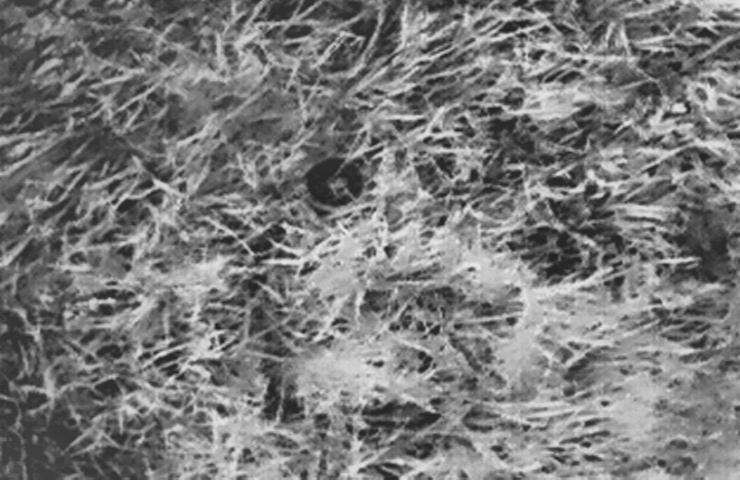landmines: (299, 151, 372, 215)
